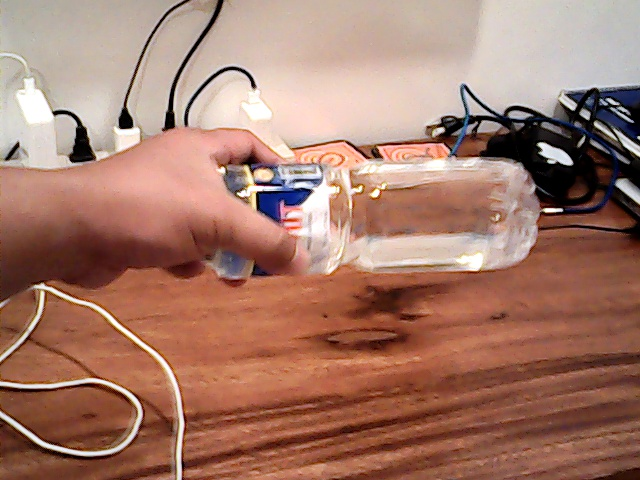Summit Water: (195, 155, 521, 284)
